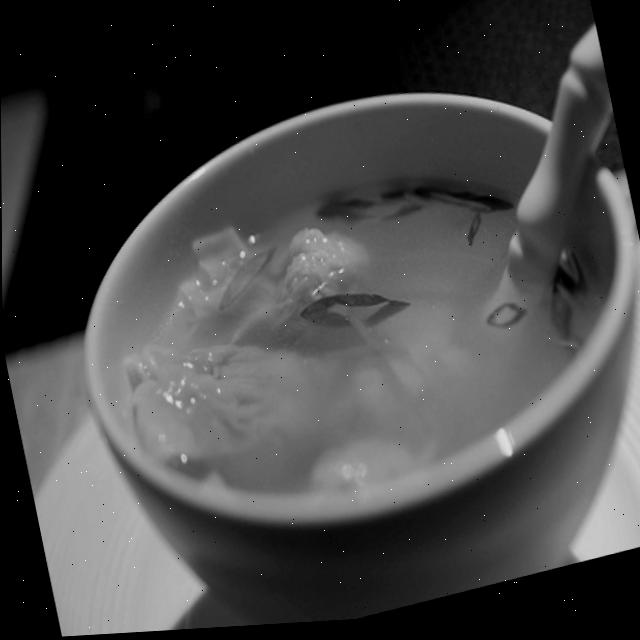汤锅炖物: (25, 14, 640, 627)
